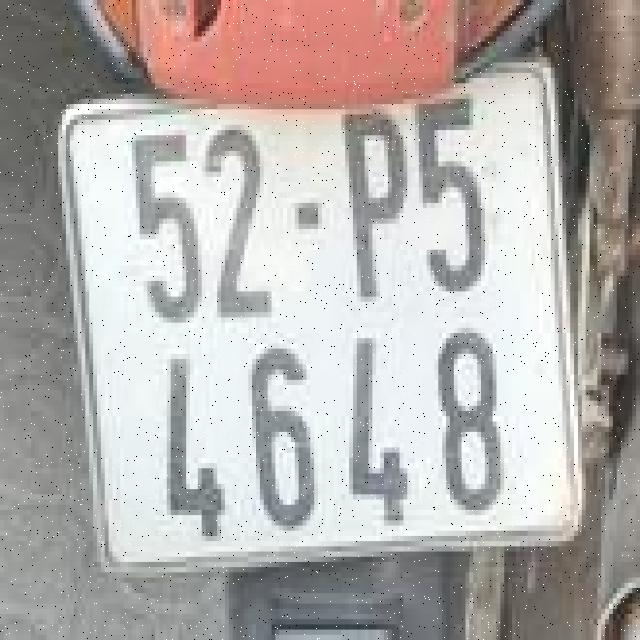2: (200, 117, 277, 320)
4: (149, 341, 235, 549), (347, 328, 413, 525)
5: (118, 125, 200, 328), (411, 91, 489, 304)
6: (244, 331, 326, 538)
8: (429, 315, 506, 523)
P: (334, 104, 411, 307)
